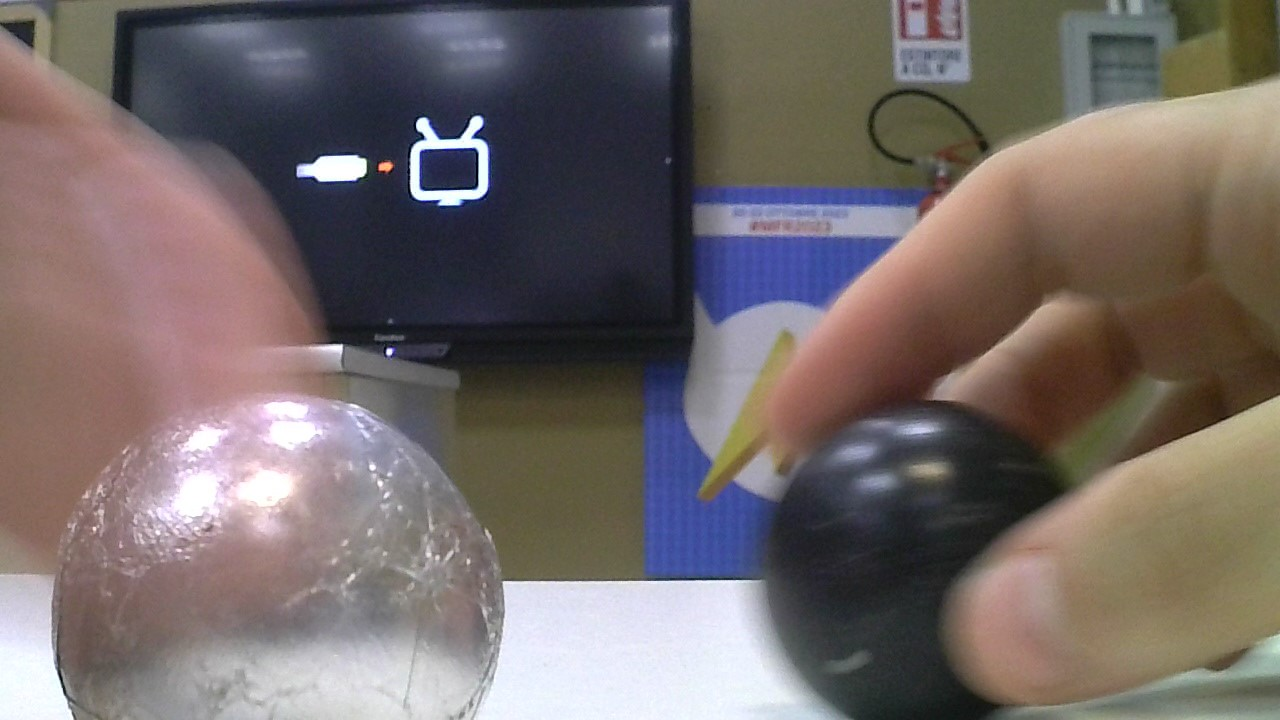silver_ball: (43, 395, 513, 720)
